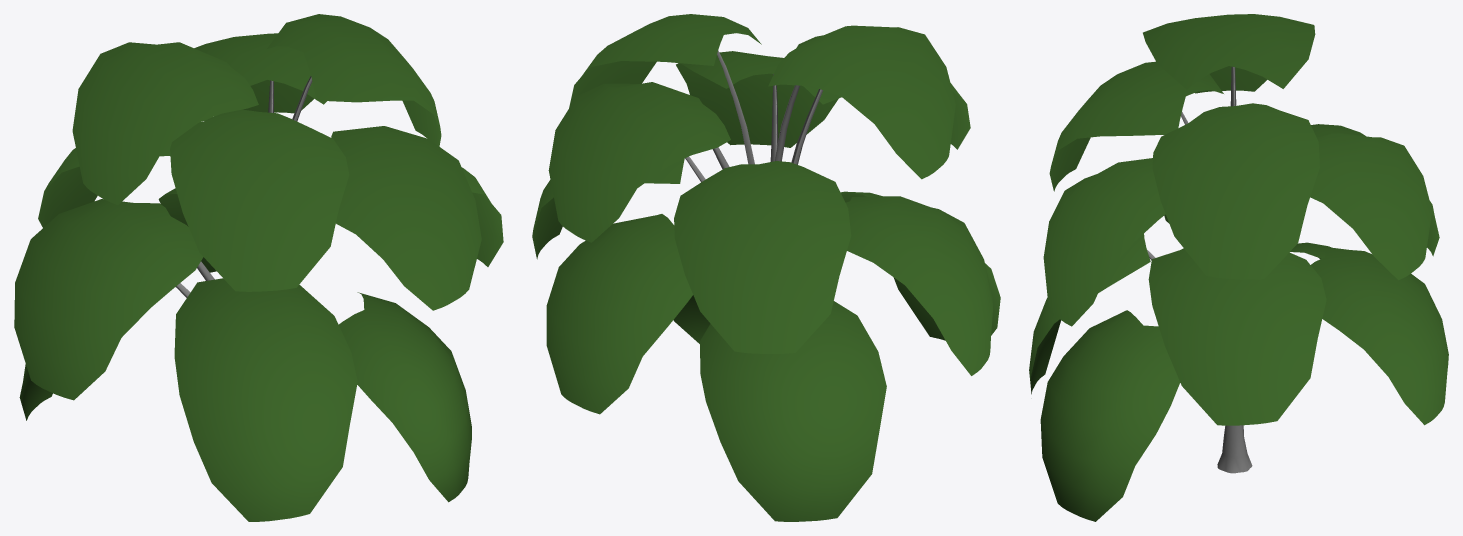
The model's file is SM_plant_tropical_01.fbx.
3 views of the same model, side by side, from view 1: azimuth 30°, elevation 25°; view 2: azimuth 150°, elevation 25°; view 3: azimuth 270°, elevation 25° (orthographic). The views are drawn at different scales.
Visible parts, largest first — view 1: tree021; view 2: tree021; view 3: tree021.
Boxes of the visible parts, x1,y1,x2,y2 form: tree021: (14, 14, 503, 521); tree021: (532, 14, 1000, 521); tree021: (1029, 14, 1448, 521).
Bounding box in the file's own units: 43.57 × 40.53 × 38.14.
